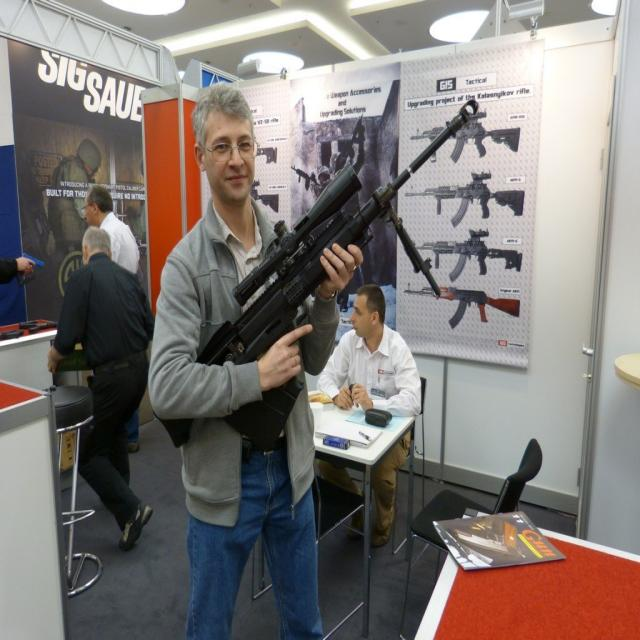firearm: (225, 98, 479, 355), (406, 171, 526, 224), (411, 110, 518, 165), (403, 286, 520, 333), (419, 228, 523, 280)
pistol: (22, 251, 44, 269)
